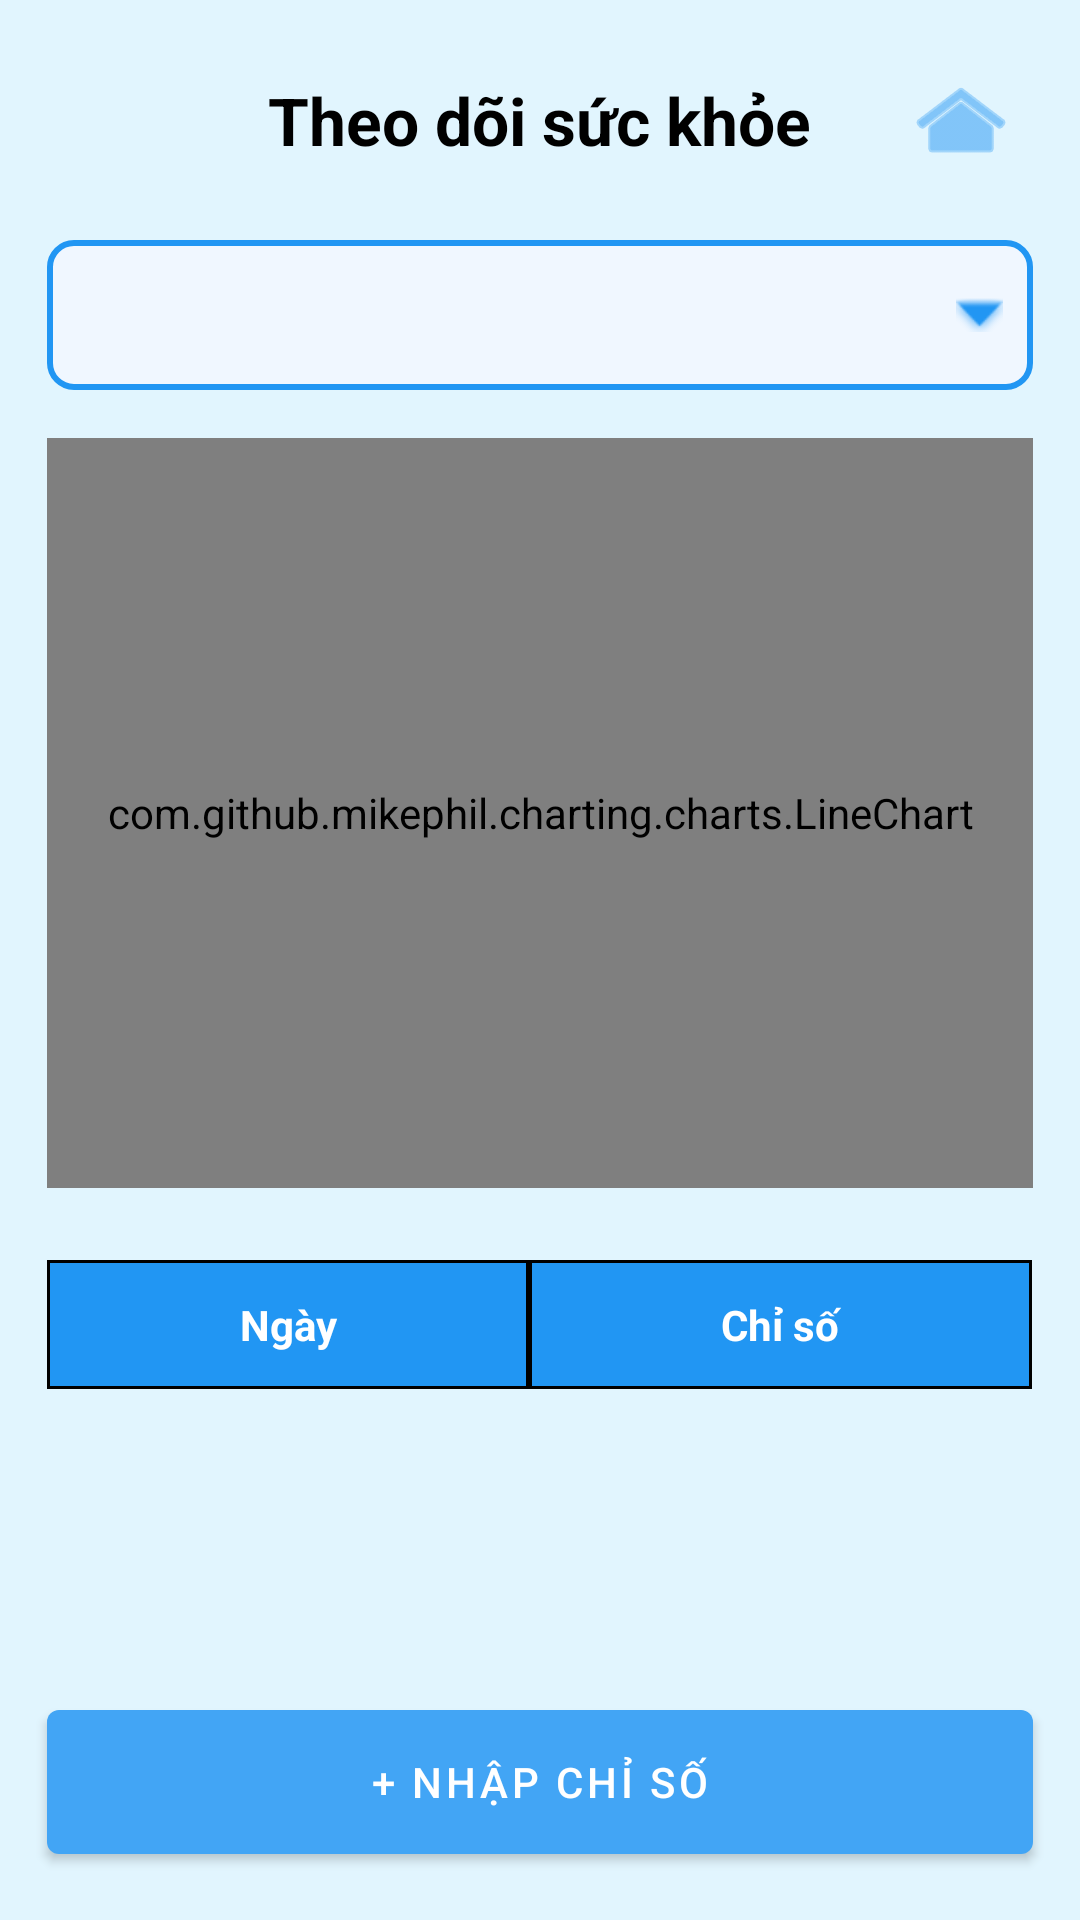

Locate icon controls on the screen. Image size 1080 x 1920, boxes as (x1, y1, x2, y2).
Trang chủ: (916, 88, 1006, 153)
